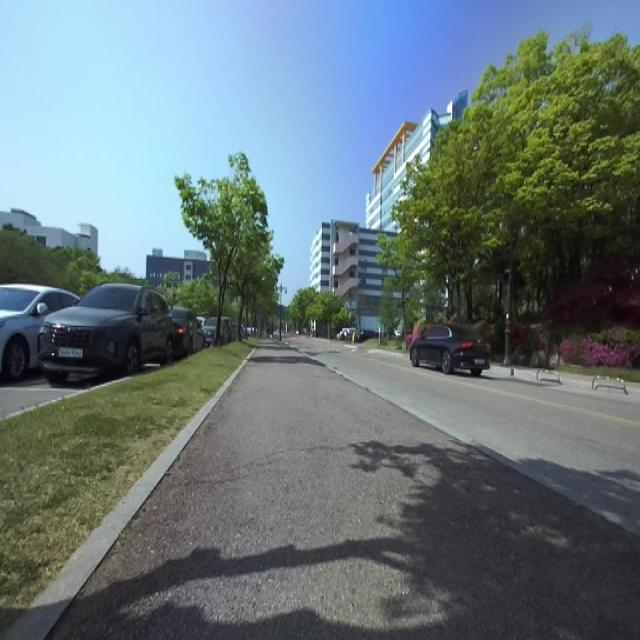sidewalk: (50, 340, 640, 639)
